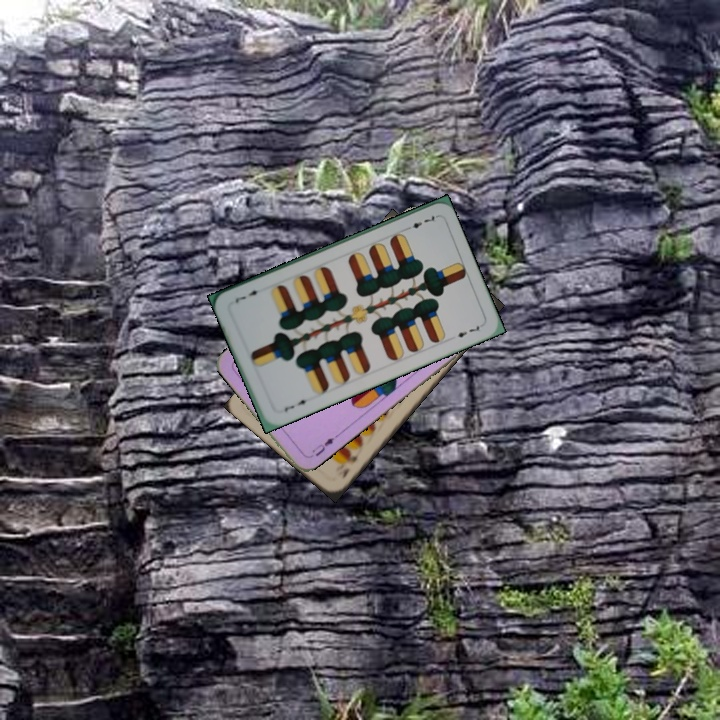E10: (338, 449, 361, 481)
E7: (400, 212, 439, 233), (280, 394, 312, 414)
EU: (304, 431, 340, 461)
